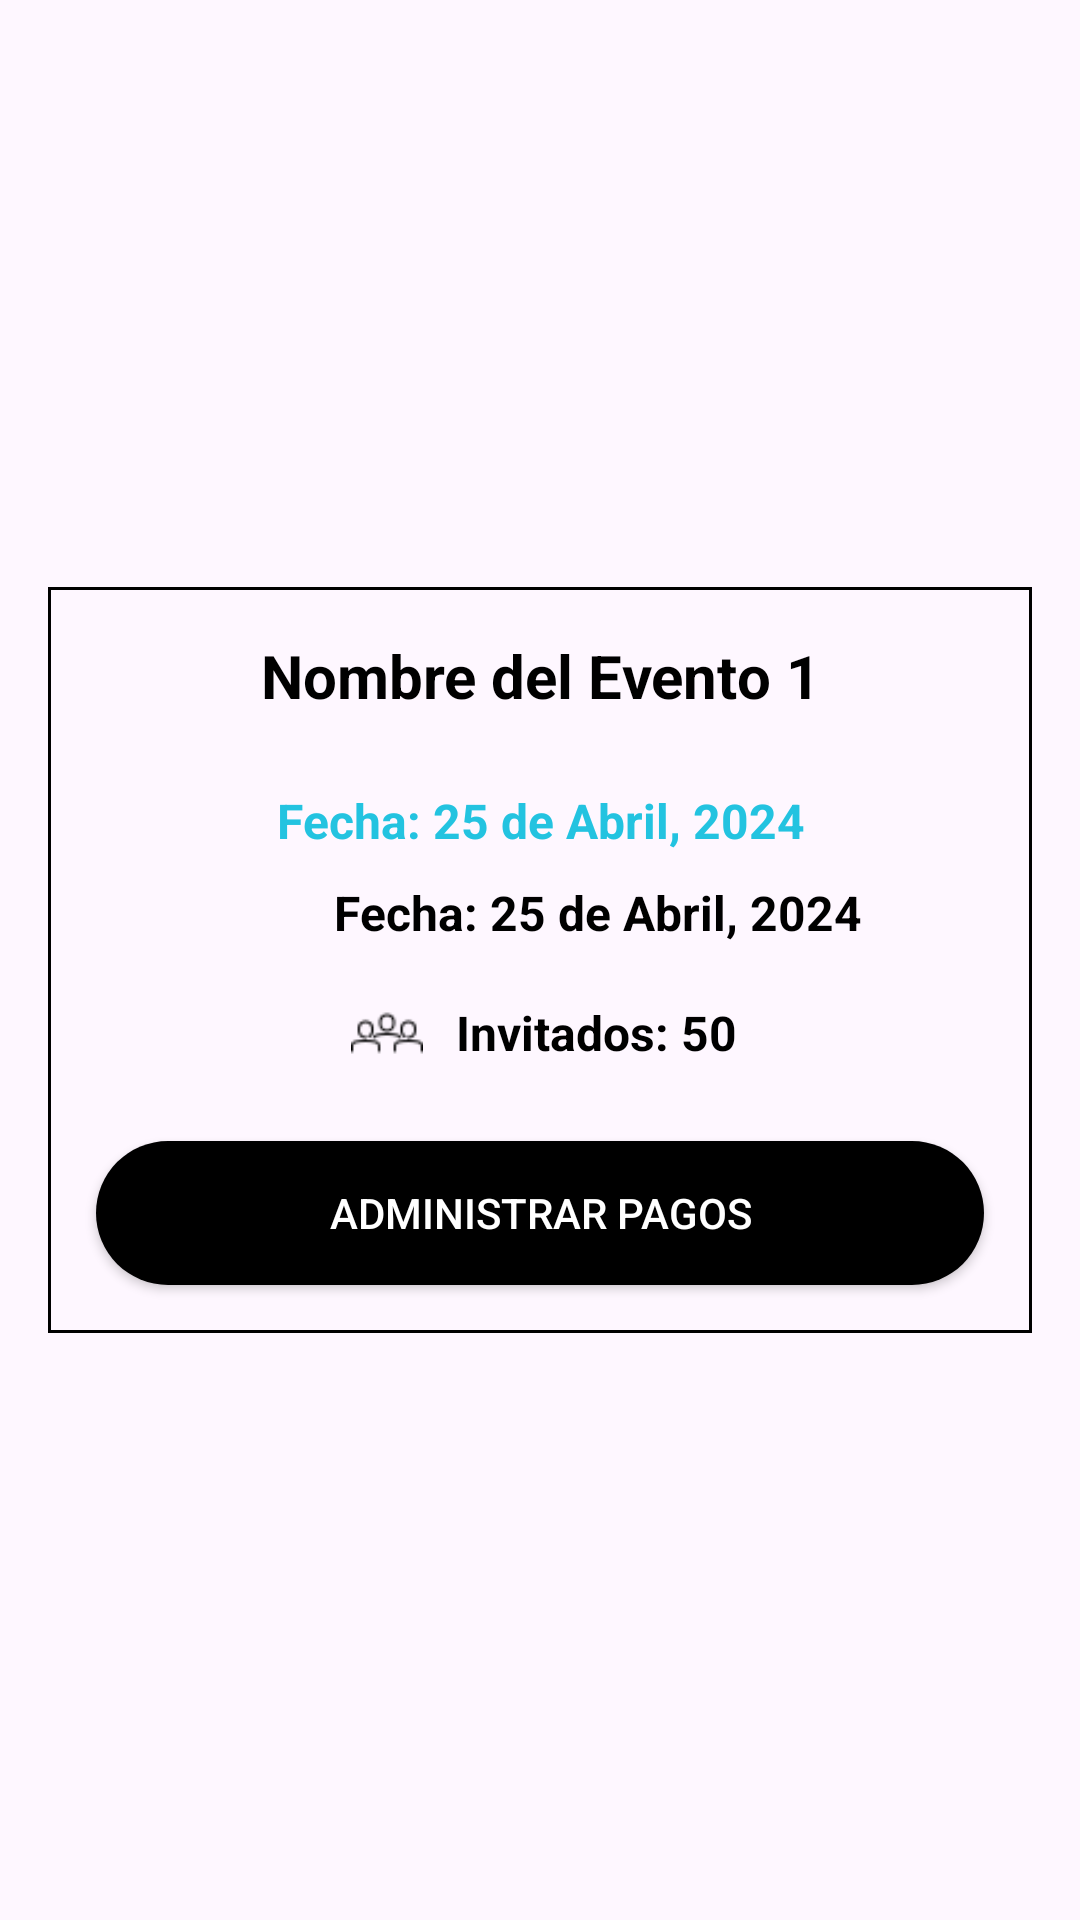

Icon bounding boxes for this 1080w x 1920h phone screenshot, format (x1, y1, x2, y2):
business people: (351, 1012, 423, 1054)
